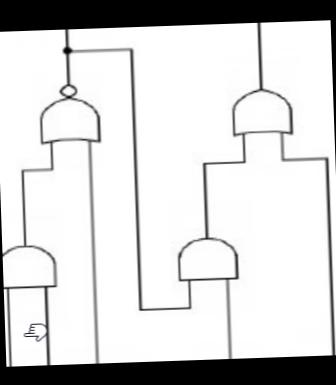and: (176, 233, 246, 292), (1, 237, 62, 298)
nor: (28, 80, 103, 146)
or: (225, 80, 296, 141)
